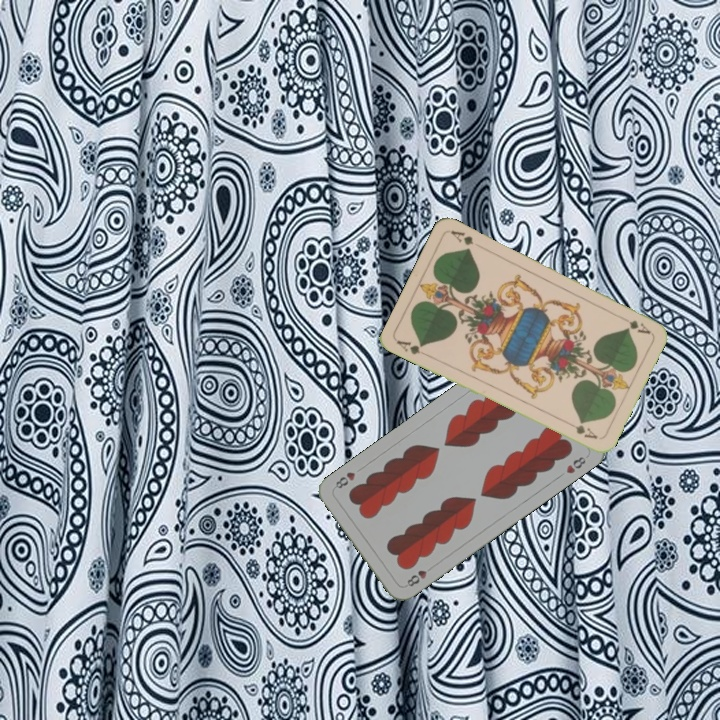GA: (616, 312, 653, 337), (393, 336, 425, 357)
H8: (403, 566, 430, 589)
